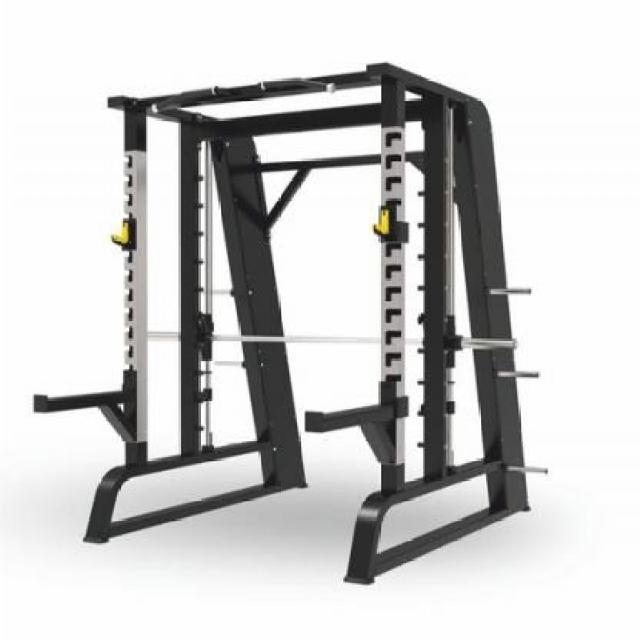smith machine: (32, 61, 550, 584)
